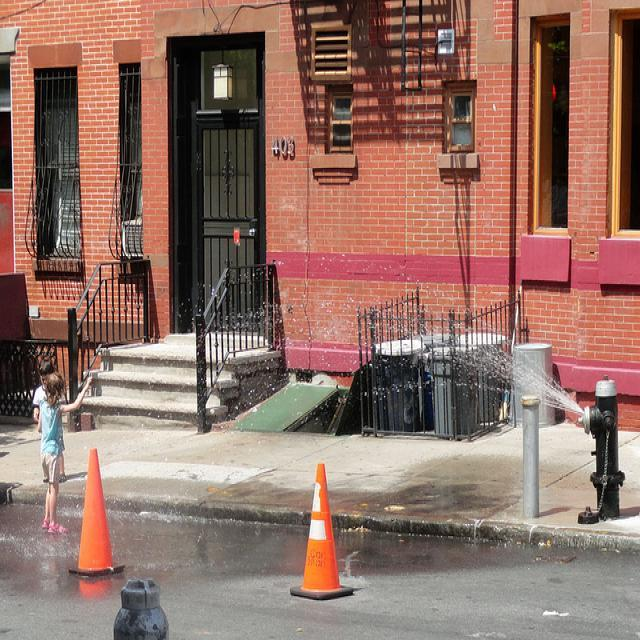fire_hydrant: (576, 374, 626, 524)
